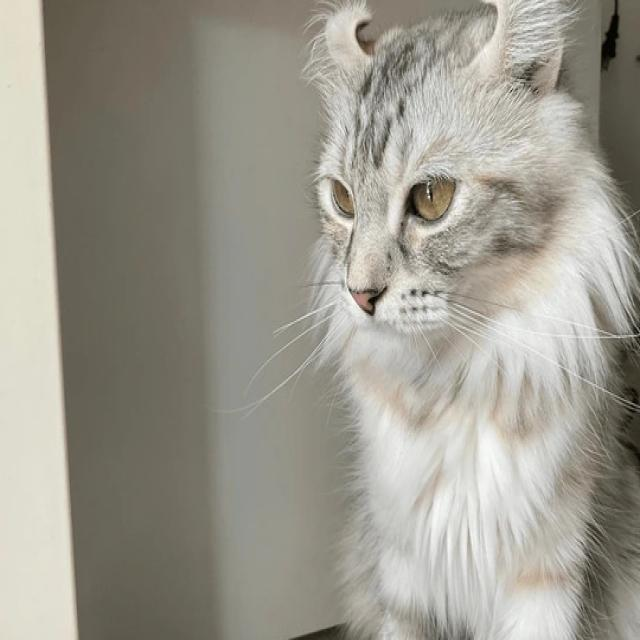American Curl: (296, 0, 640, 640)
